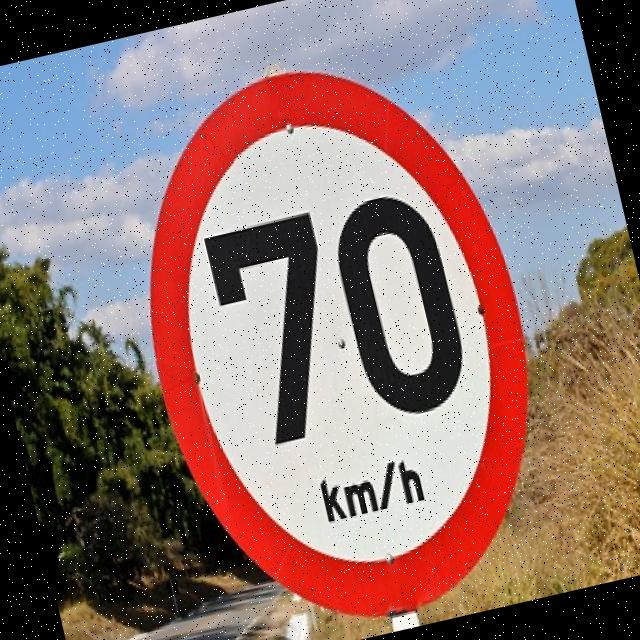speed_limit_70: (90, 23, 581, 640)
